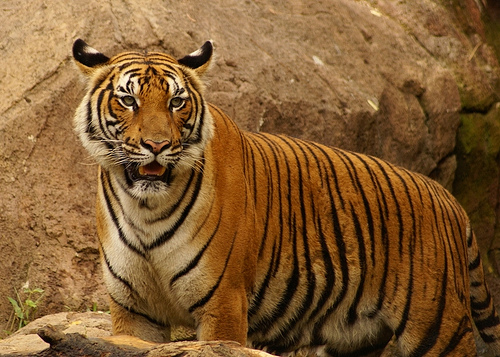Tigre: (63, 43, 488, 357)
